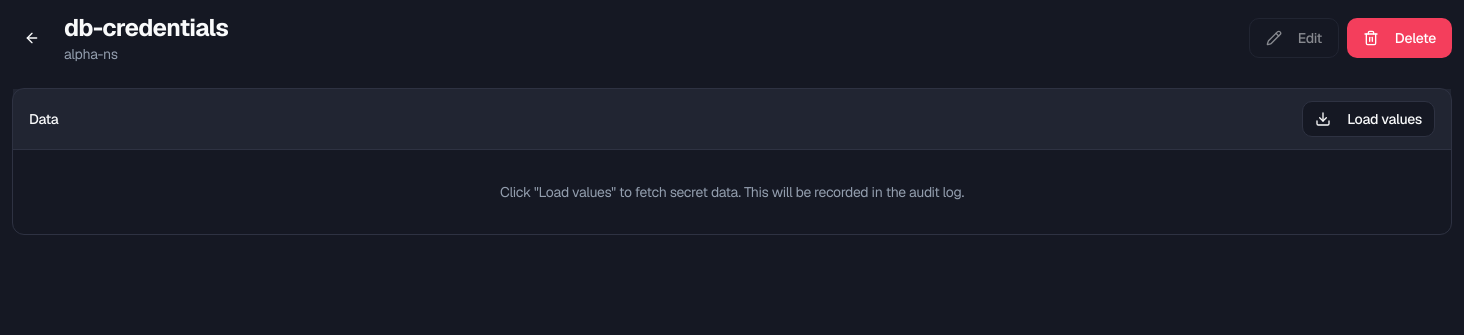
it: SecretDetailView › shows/hides values when toggle is clicked after loading
Click the button "Load values".
click(1369, 119)  # box [1302,101,1435,137]
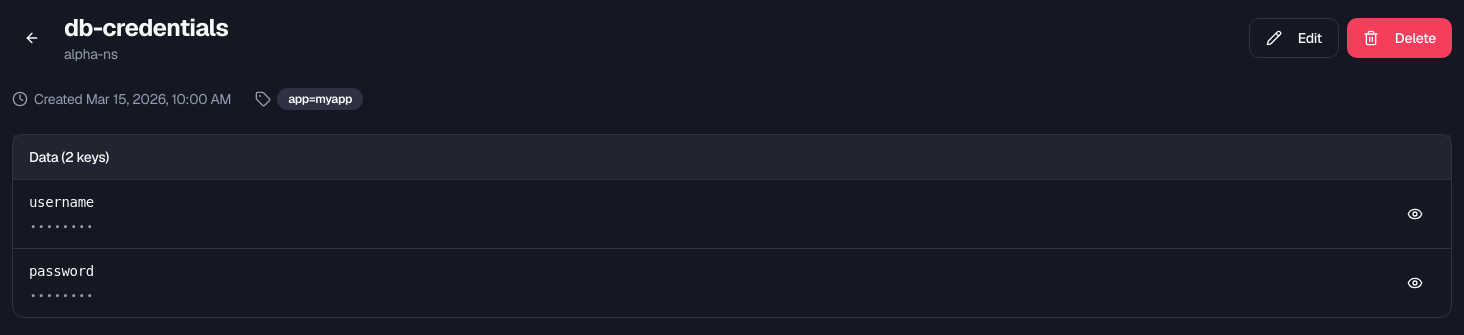
Check: the text "username" is shown, box [29,194,94,210]
Check: the number of buttons named "Show " is 2
Click the button named "Show ".
click(1415, 214)  # box [1395,194,1435,234]
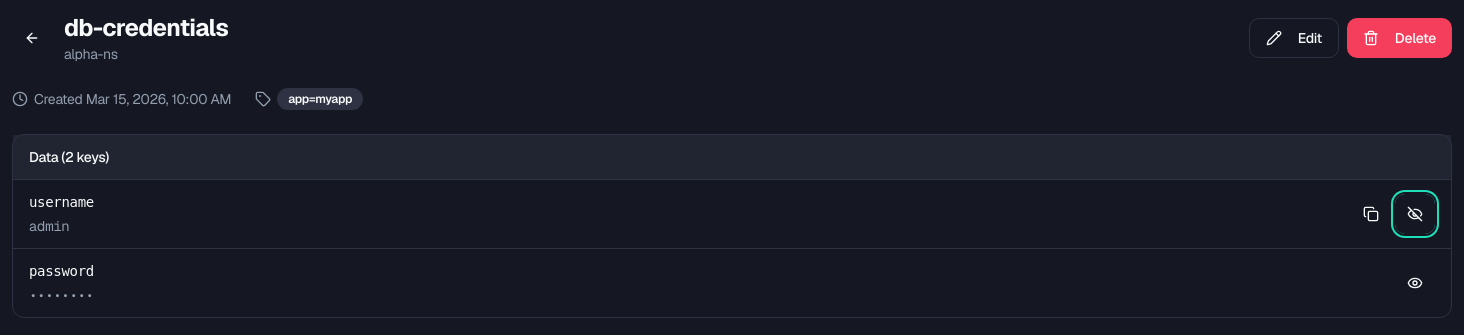
Check: the text "admin" is shown, box [29,217,69,235]
